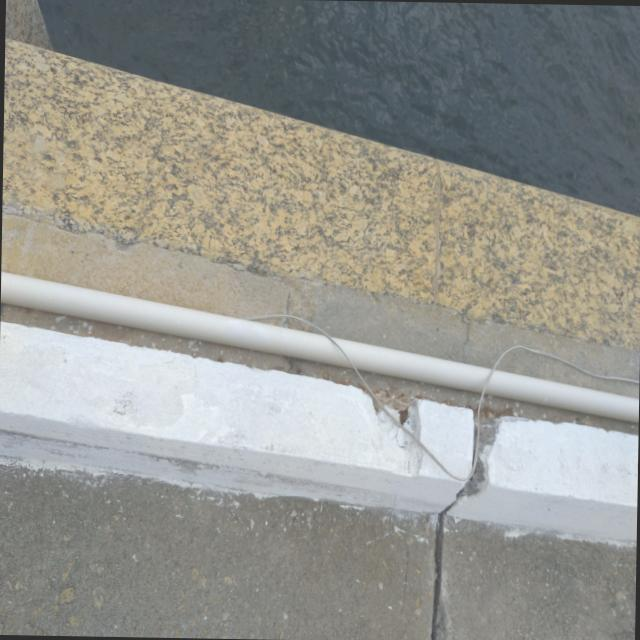gas: (0, 272, 639, 423)
